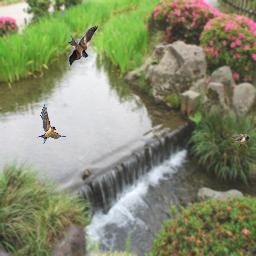Swallow: (63, 26, 99, 66), (37, 104, 66, 144), (223, 134, 249, 150)
